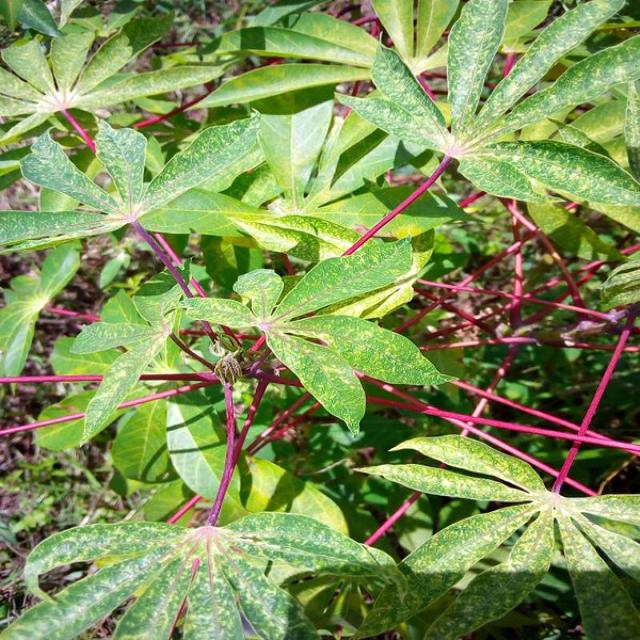cassava leaf: (0, 1, 638, 637), (352, 431, 638, 638)
